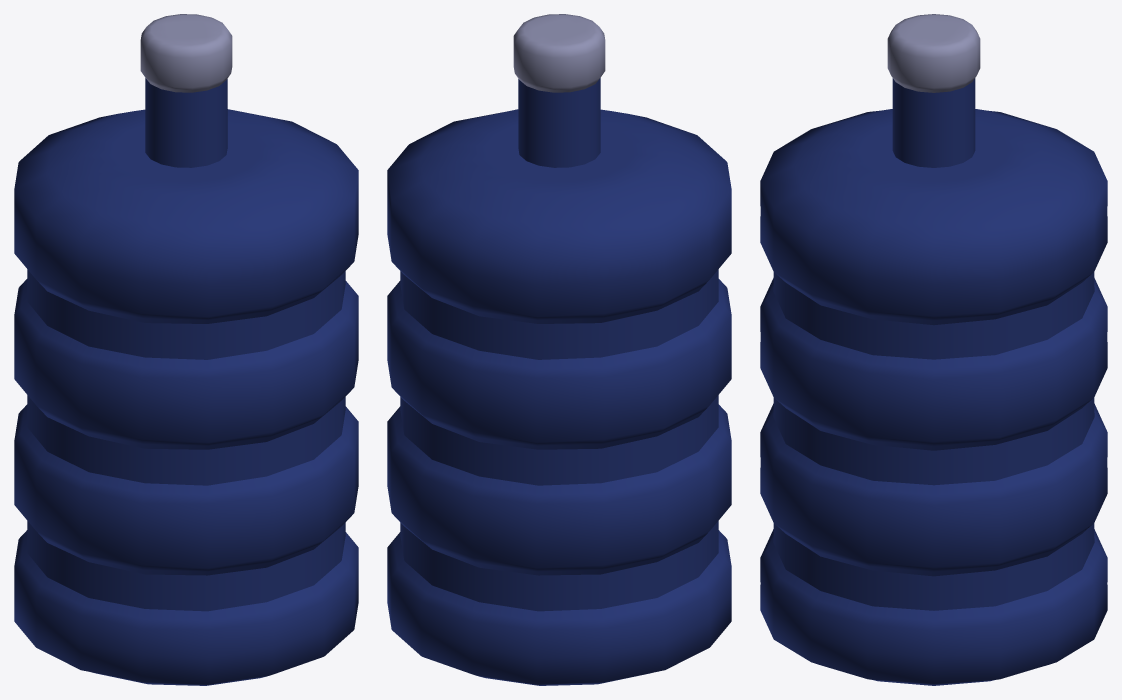
The model's file is Galon.fbx.
The picture shows the model from 3 angles, left to right: view 1: azimuth 30°, elevation 25°; view 2: azimuth 150°, elevation 25°; view 3: azimuth 270°, elevation 25°; orthographic projection.
Visible parts, largest first — view 1: Galon; view 2: Galon; view 3: Galon.
Boxes of the visible parts, box(x1,y1,x2,y2) form: Galon: box(14, 14, 358, 685); Galon: box(387, 14, 731, 685); Galon: box(760, 14, 1107, 685).
Size of the model in its own units: 0.5969 by 1.13 by 0.5969.
1 material, 1 textured.
